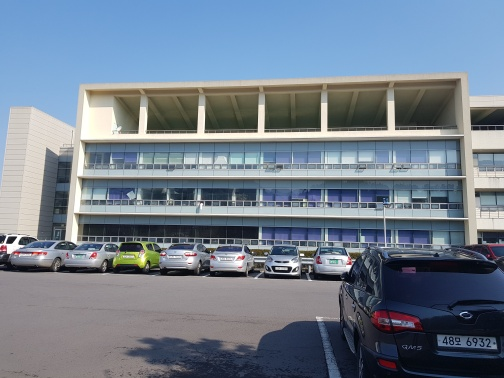Engineering College Building 4: (6, 77, 493, 235), (79, 81, 473, 237)
